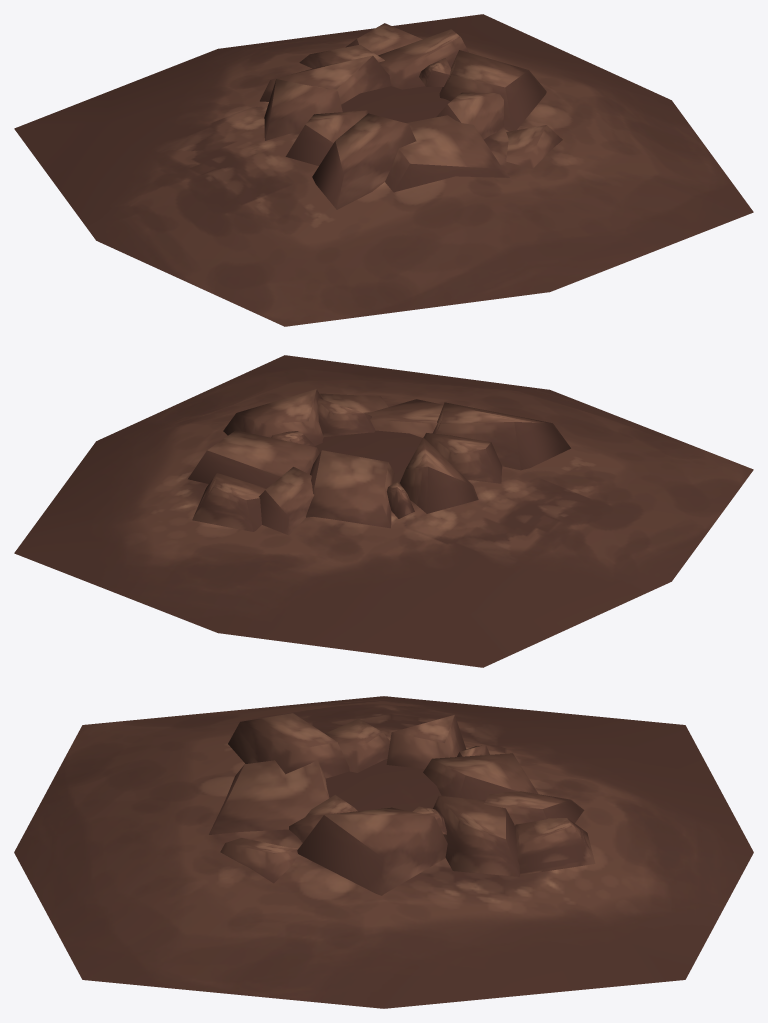
The model's file is PlantMound.fbx.
3 renders of one model, top to bottom at view 1: azimuth 30°, elevation 25°; view 2: azimuth 150°, elevation 25°; view 3: azimuth 270°, elevation 25°, orthographic. The views are drawn at different scales.
Parts seen in each view (by area): view 1: Dirtplane; view 2: Dirtplane; view 3: Dirtplane.
Boxes of the visible parts, bbox=[...] form: Dirtplane: bbox=[14, 14, 753, 326]; Dirtplane: bbox=[14, 355, 753, 667]; Dirtplane: bbox=[14, 696, 753, 1008].
Bounding box in the file's own units: 189 × 27.27 × 189.
